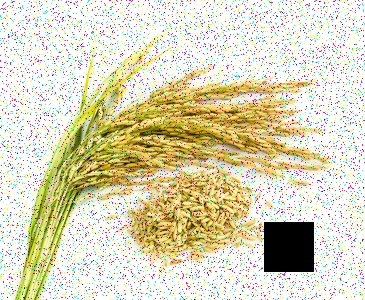rice: (57, 63, 322, 204)
